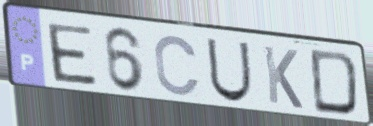6: (102, 25, 148, 95)
C: (152, 33, 203, 99)
D: (308, 47, 362, 119)
E: (43, 21, 100, 88)
K: (261, 43, 306, 111)
U: (204, 36, 254, 105)
